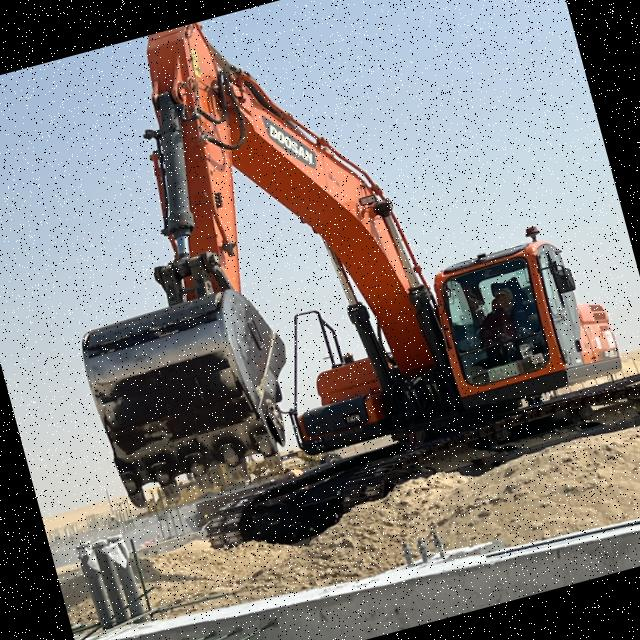Excavator: (4, 0, 640, 590)
